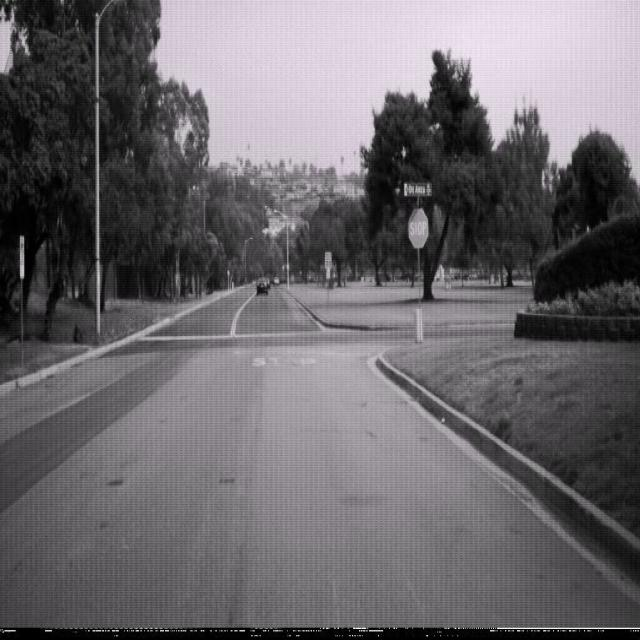stop: (407, 206, 429, 249)
